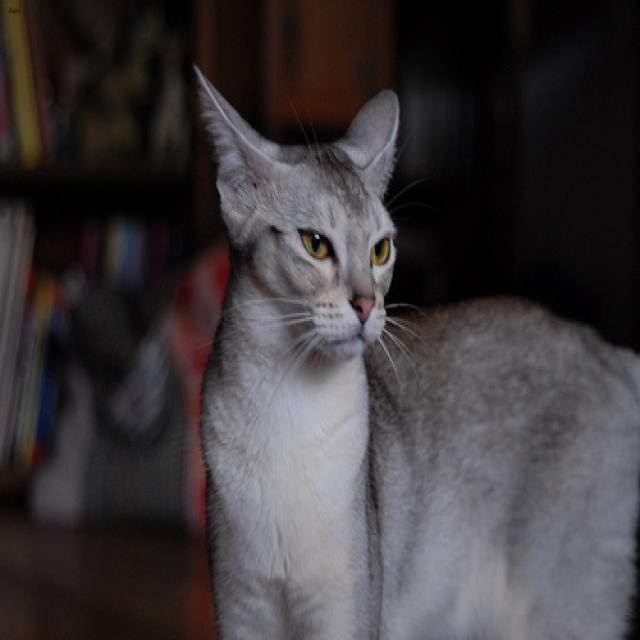Abyssinian: (193, 70, 411, 376)
